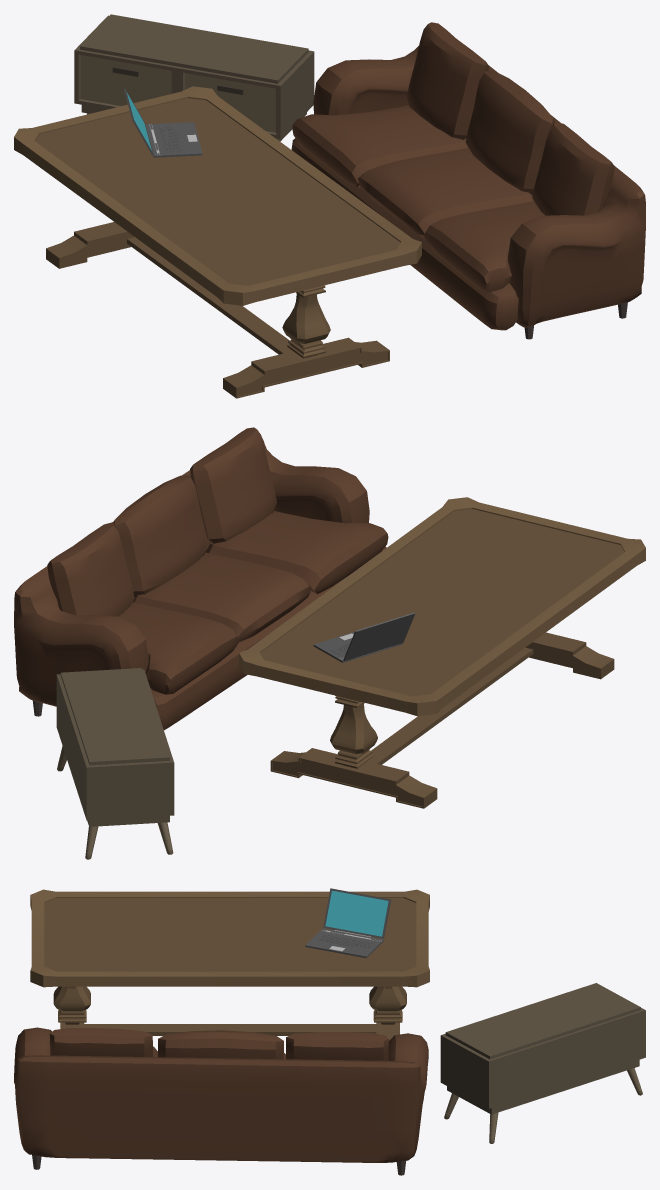
The model's file is InteriorAgain.fbx.
3 views of the same model, one above another, from view 1: azimuth 30°, elevation 25°; view 2: azimuth 150°, elevation 25°; view 3: azimuth 270°, elevation 25° (orthographic). The views are drawn at different scales.
Visible parts, largest first — view 1: Sofa2, Meja, Drawer_1, Laptop; view 2: Sofa2, Meja, Drawer_1, Laptop; view 3: Sofa2, Meja, Drawer_1, Laptop.
Boxes of the visible parts, x1,y1,x2,y2 form: Sofa2: [291, 22, 645, 339]; Meja: [14, 86, 421, 398]; Drawer_1: [74, 14, 314, 141]; Laptop: [123, 88, 202, 157]; Sofa2: [14, 427, 388, 730]; Meja: [239, 497, 645, 808]; Drawer_1: [56, 668, 174, 859]; Laptop: [313, 612, 415, 662]; Sofa2: [14, 1027, 428, 1175]; Meja: [30, 889, 429, 1040]; Drawer_1: [440, 983, 645, 1143]; Laptop: [305, 888, 391, 958].
Size of the model in its own units: 295 by 104 by 425.
